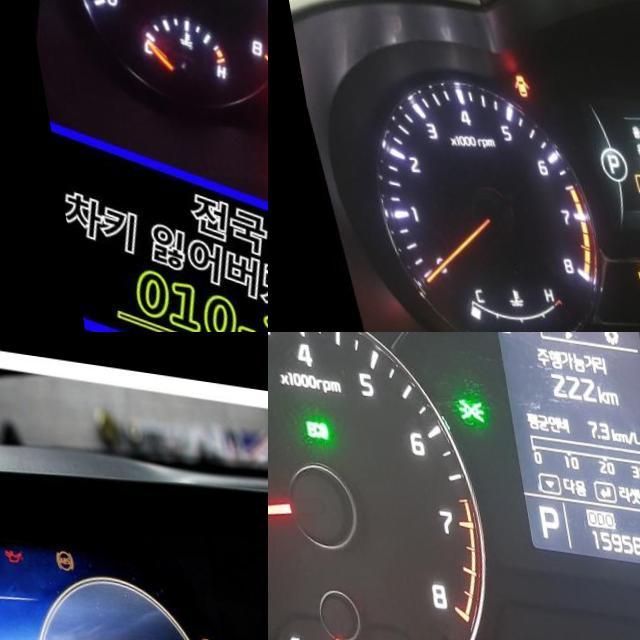Doors: (500, 66, 521, 92)
SideLamp: (446, 390, 474, 417)
